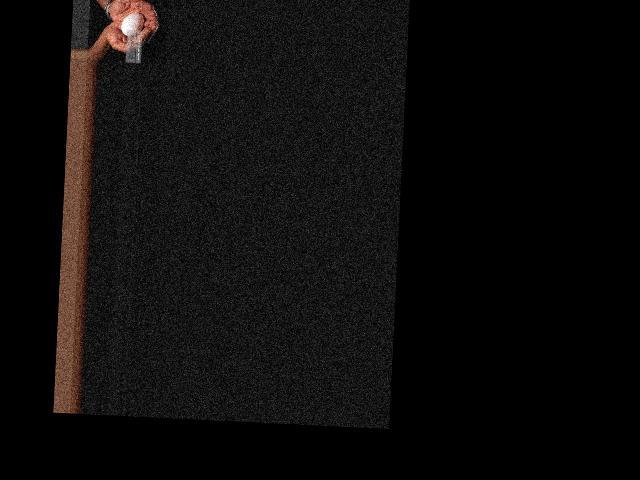egg: (121, 11, 145, 35)
